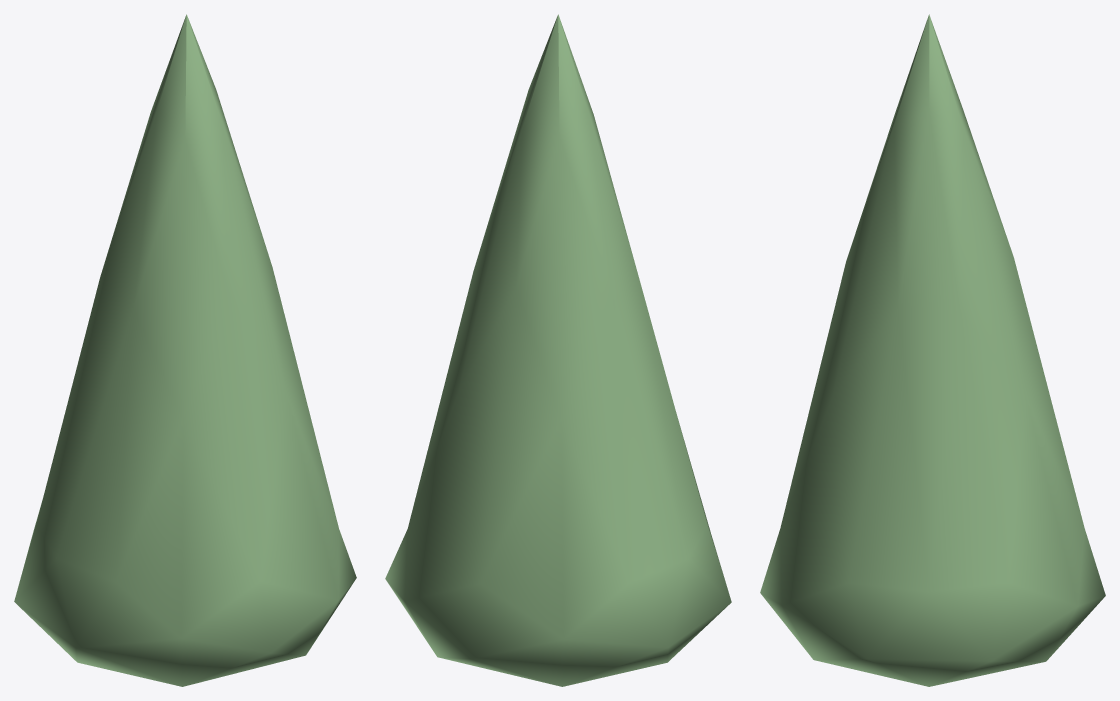
Rendered from tree-conifer-e-crown-far.glb.
The picture shows the model from 3 angles, left to right: view 1: azimuth 30°, elevation 25°; view 2: azimuth 150°, elevation 25°; view 3: azimuth 270°, elevation 25°; orthographic projection.
Visible parts, largest first — view 1: tree-conifer-e-crown-far; view 2: tree-conifer-e-crown-far; view 3: tree-conifer-e-crown-far.
Boxes of the visible parts, bbox=[...] form: tree-conifer-e-crown-far: bbox=[14, 14, 356, 686]; tree-conifer-e-crown-far: bbox=[385, 14, 731, 686]; tree-conifer-e-crown-far: bbox=[760, 14, 1105, 686].
Bounding box in the file's own units: 0.3743 × 0.8038 × 0.3939.
